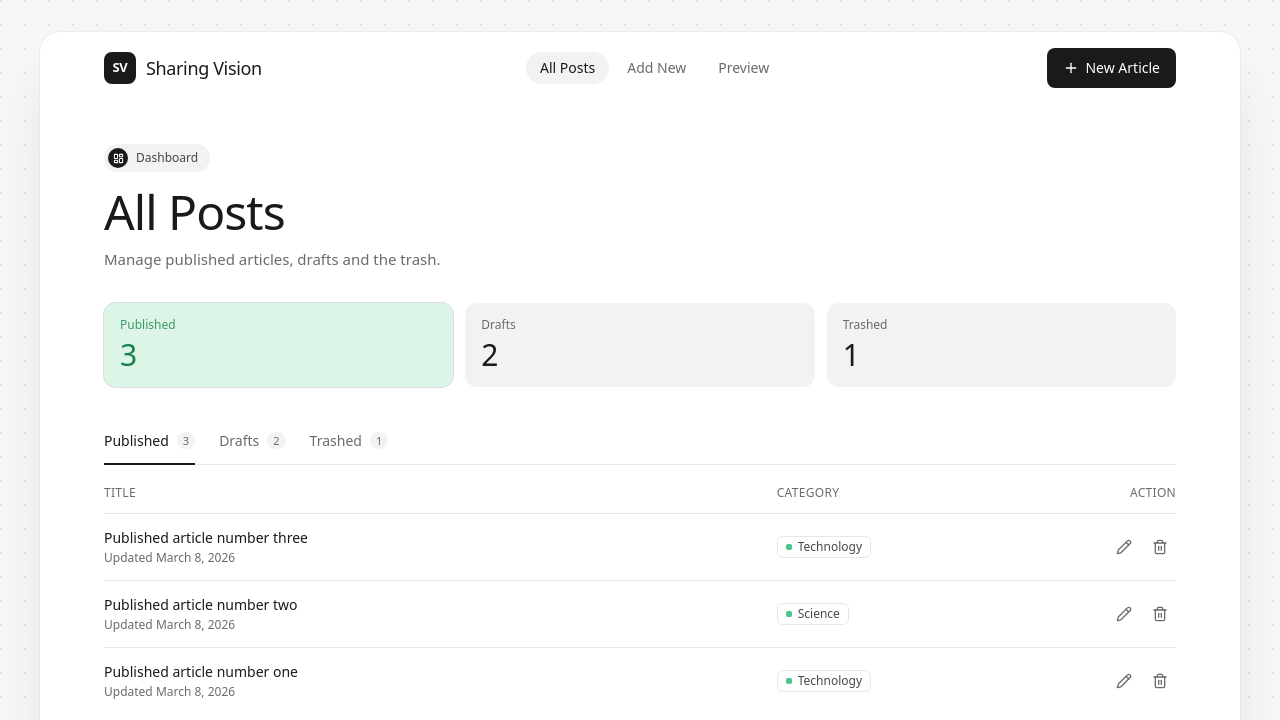
All Posts page › selects a tab when its stat card is clicked
Click the button "Trashed 1" at (865, 324), box [827, 302, 1176, 386]
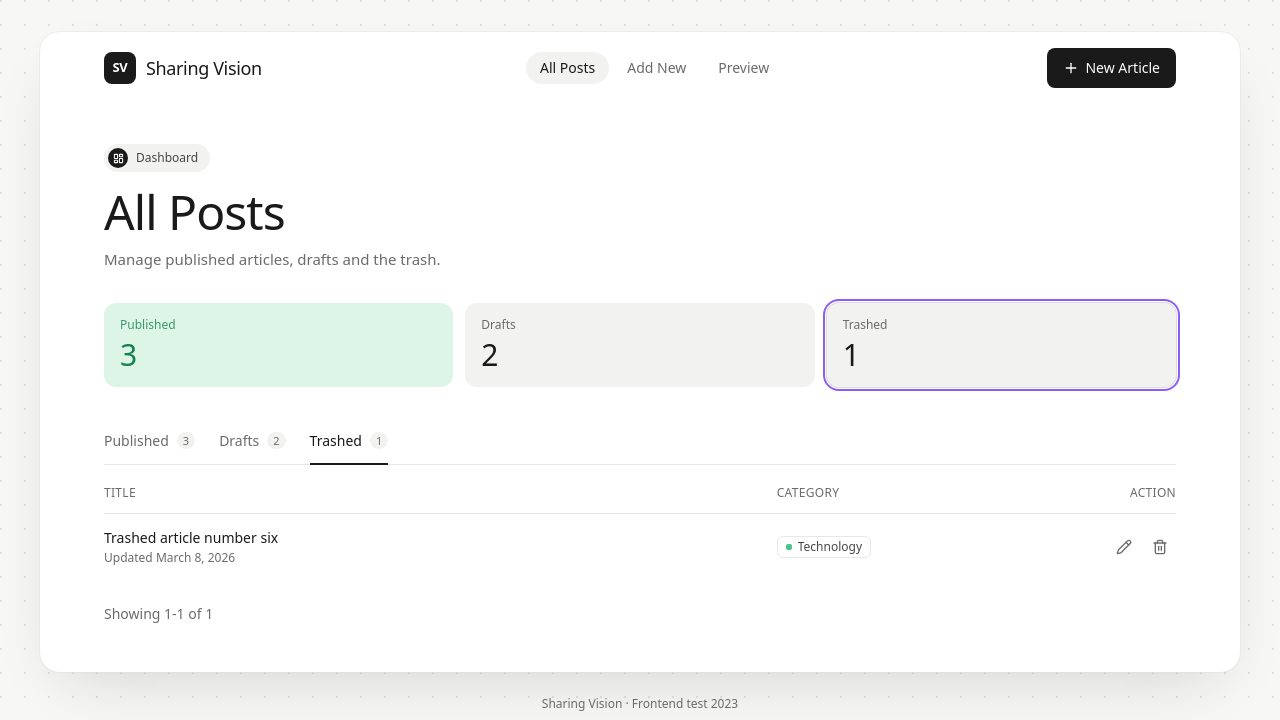
Expected: the text "Trashed article number six" is shown, [104, 528, 278, 546]
